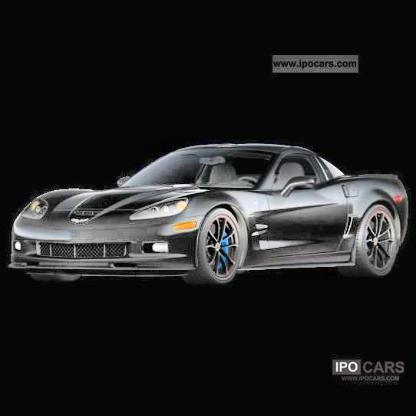Chevrolet Corvette ZR1 2012: (8, 139, 414, 285)
